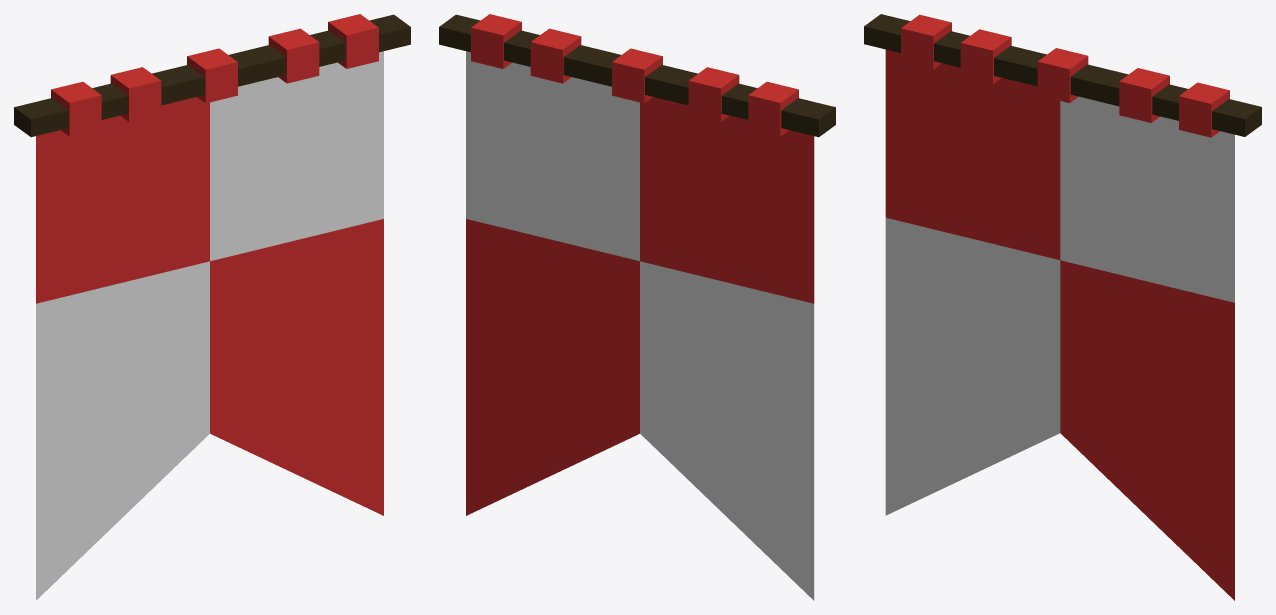
File: Banner.fbx
3 renders of one model, left to right at view 1: azimuth 30°, elevation 25°; view 2: azimuth 150°, elevation 25°; view 3: azimuth 330°, elevation 25°, orthographic.
Visible parts, largest first — view 1: Cube.001, Cube.002, Cube; view 2: Cube.001, Cube.002, Cube; view 3: Cube.001, Cube.002, Cube.
Part boxes in pixels (box(x1,y1,x2,y2)): Cube.001: box(36, 51, 383, 600); Cube.002: box(51, 14, 378, 136); Cube: box(14, 14, 410, 137); Cube.001: box(466, 51, 814, 600); Cube.002: box(471, 14, 798, 136); Cube: box(439, 14, 835, 137); Cube.001: box(885, 49, 1234, 600); Cube.002: box(901, 14, 1229, 137); Cube: box(864, 14, 1261, 136).
Bounding box in the file's own units: 386 × 485 × 32.72.
